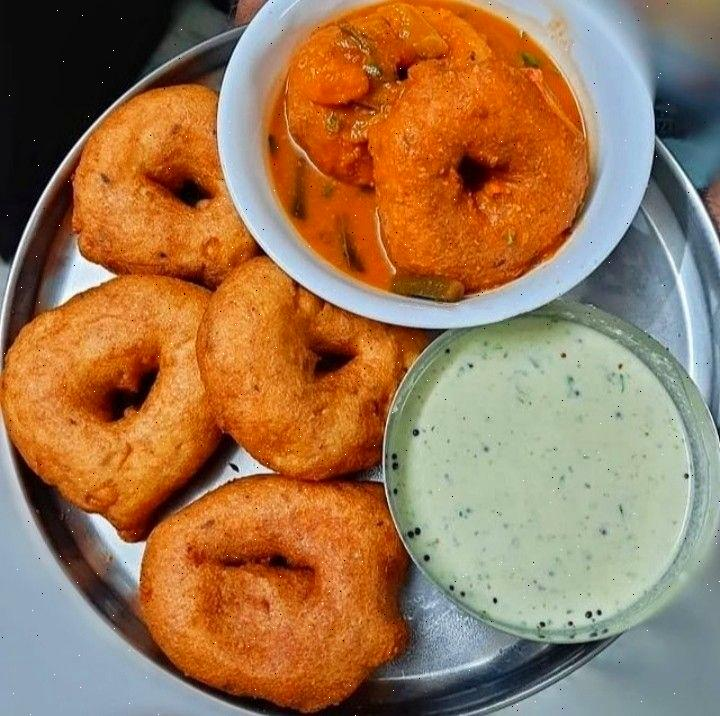coconut chutney: (412, 338, 699, 641)
medu vada: (30, 279, 414, 716), (301, 12, 570, 272), (89, 106, 230, 255)
